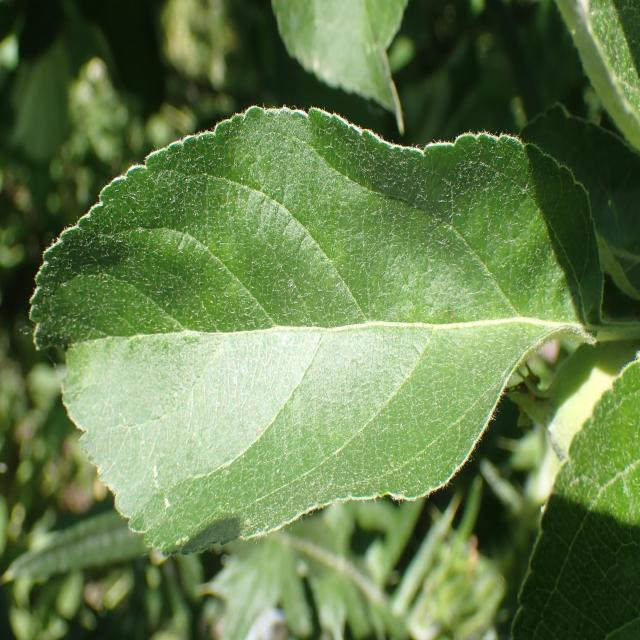healthy: (18, 104, 604, 559), (510, 350, 640, 640), (270, 0, 408, 136), (555, 0, 640, 152)
